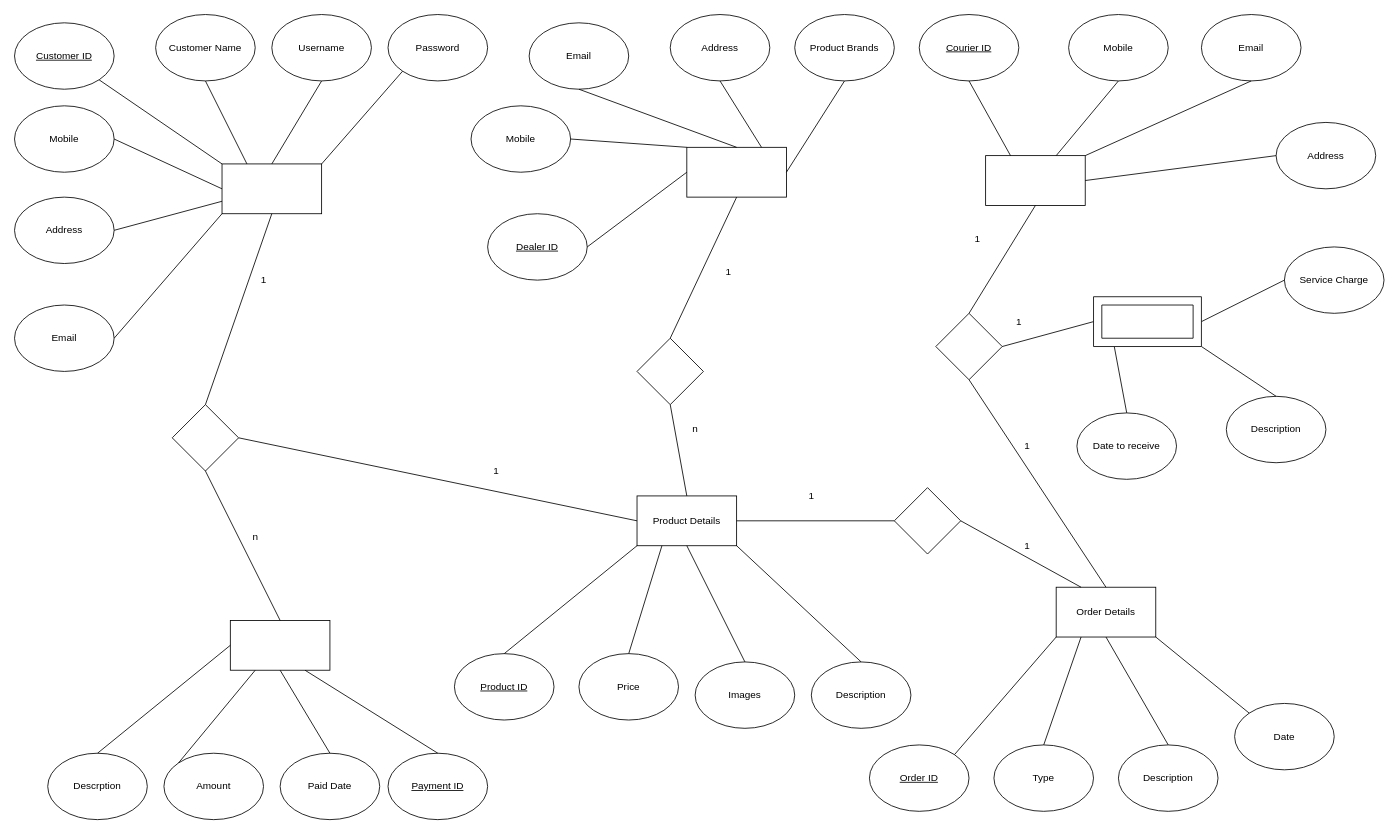
This 1399x834 diagram has some shape labels left out. Here are the shapes that lost their labels. From the top down, the centre of each, then its label:
At point 271,188: "Customer Details".
At point 736,171: "Dealer Details".
At point 1035,180: "Courier Details".
At point 1147,321: "Delivery Details".
At point 968,346: "Deliver".
At point 669,371: "Sells".
At point 205,437: "Paid".
At point 927,520: "Ordered".
At point 279,645: "Payment Details".
